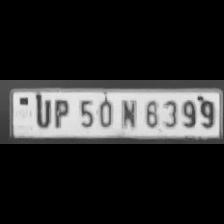0: (94, 96, 116, 128)
3: (160, 96, 180, 128)
5: (73, 97, 95, 129)
6: (140, 96, 160, 128)
9: (179, 96, 197, 128), (198, 97, 216, 129)
N: (116, 97, 138, 129)
P: (49, 96, 71, 128)
U: (32, 96, 52, 128)
